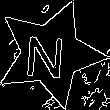N_N: (28, 27, 73, 80)
